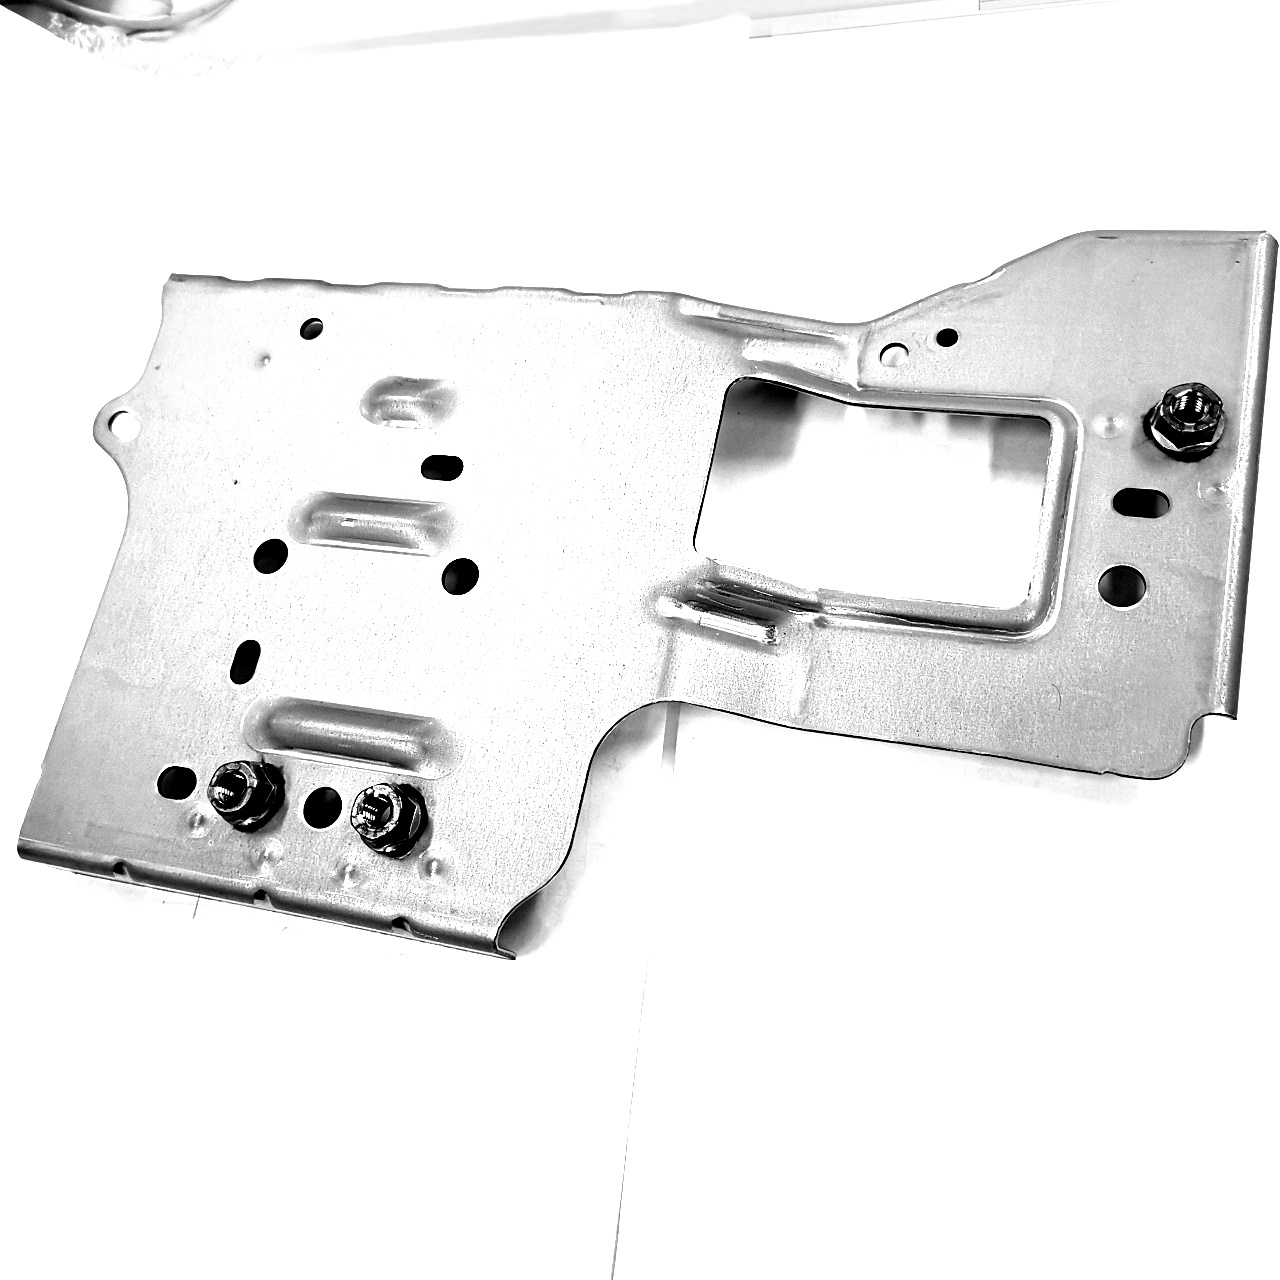dog: (1142, 377, 1228, 464), (202, 754, 286, 838), (346, 779, 428, 864)
